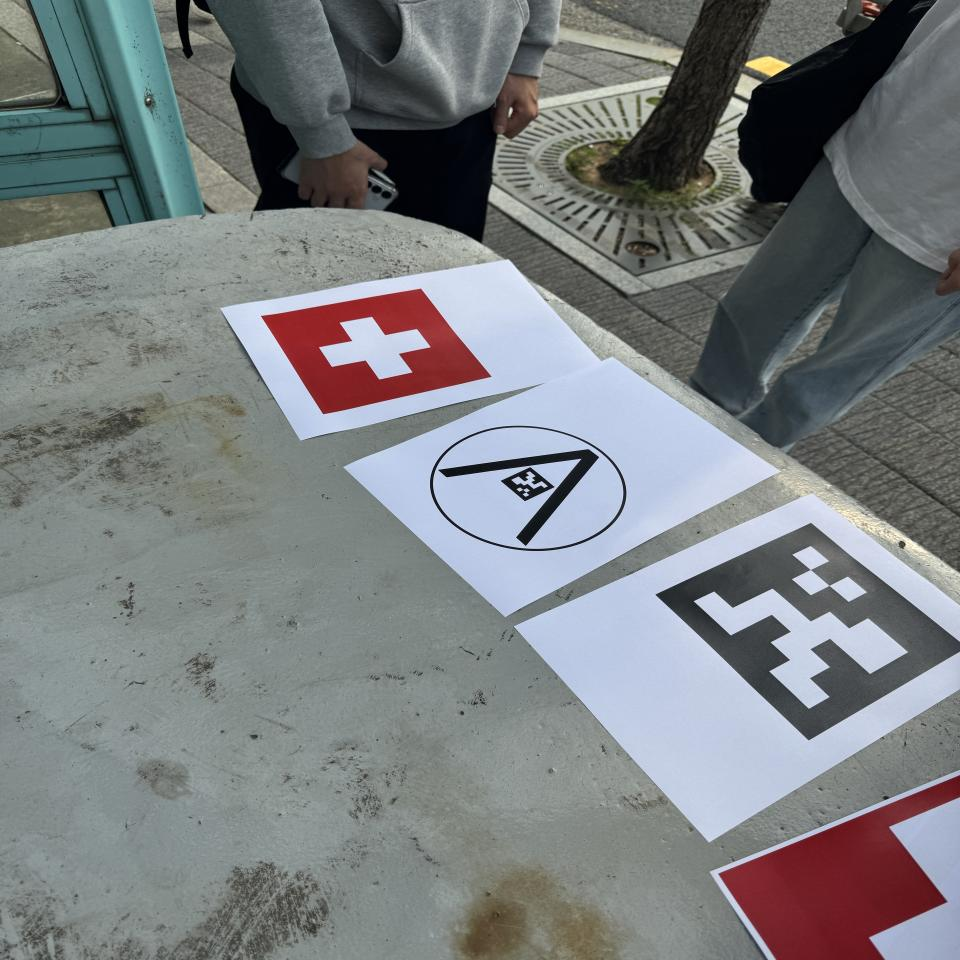ArUro mark: (656, 524, 960, 741)
rescue point: (263, 288, 490, 414)
vertiport: (425, 423, 630, 554)
